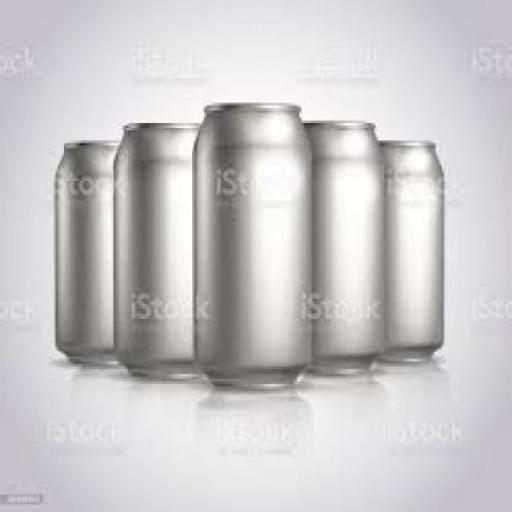metal: (190, 101, 306, 384), (112, 118, 204, 374), (302, 118, 380, 377), (52, 138, 124, 364), (378, 138, 444, 359)
